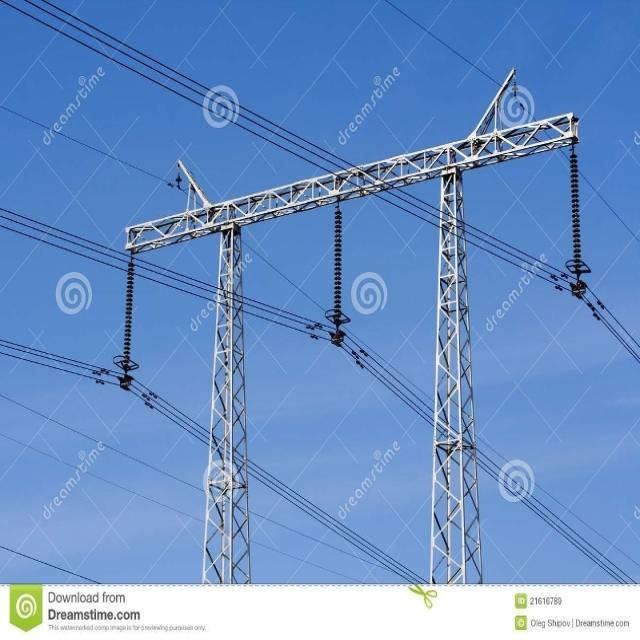non-critical vegetation: (85, 116, 580, 576)
